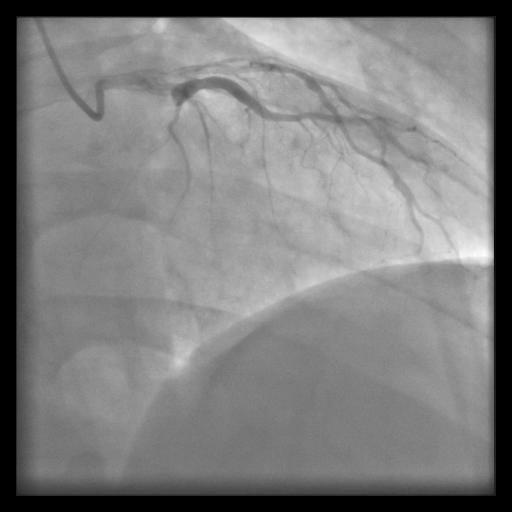Stenosis: (156, 78, 186, 105)
